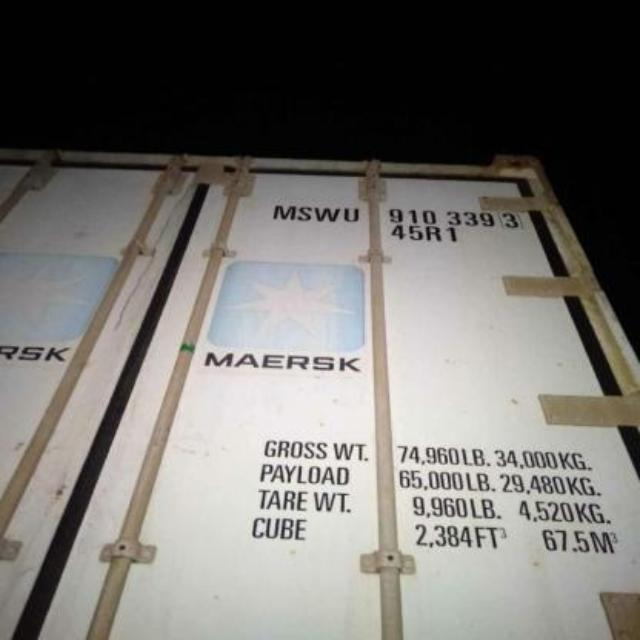0: (422, 207, 440, 223)
1: (403, 206, 421, 224)
3: (503, 211, 523, 231), (463, 208, 479, 230), (444, 207, 460, 225)
9: (477, 211, 497, 231), (386, 206, 404, 227)
M: (266, 202, 298, 222)
S: (295, 206, 311, 224)
U: (336, 200, 364, 224)
W: (312, 198, 342, 226)
